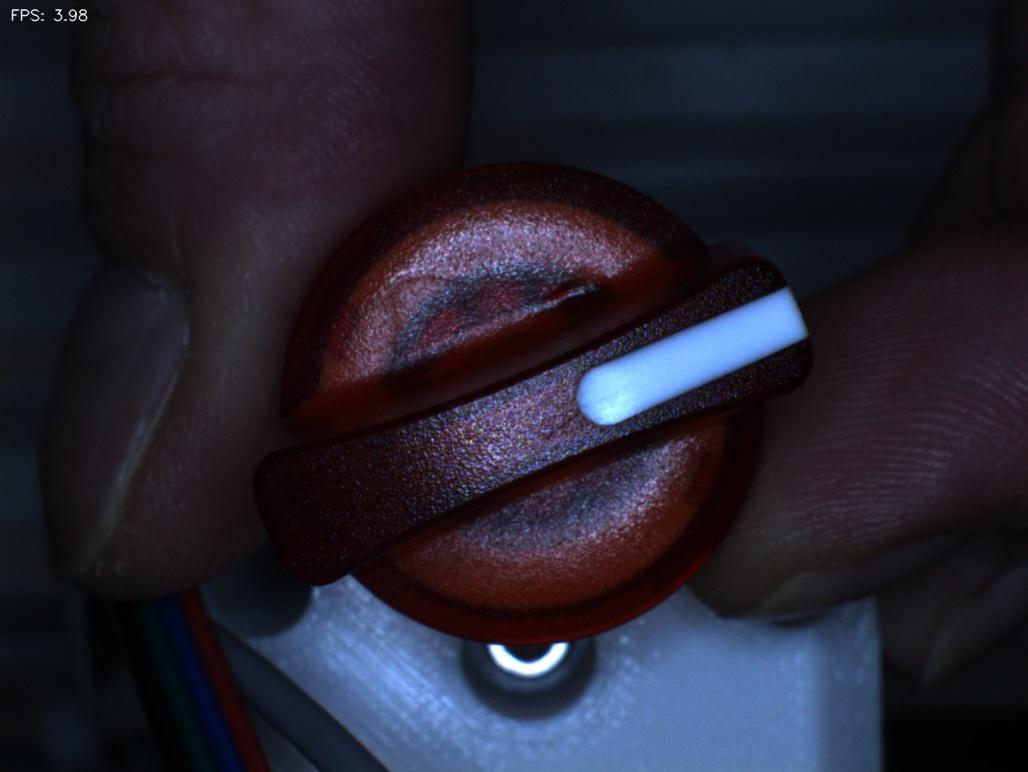Choc: (520, 242, 625, 329)
